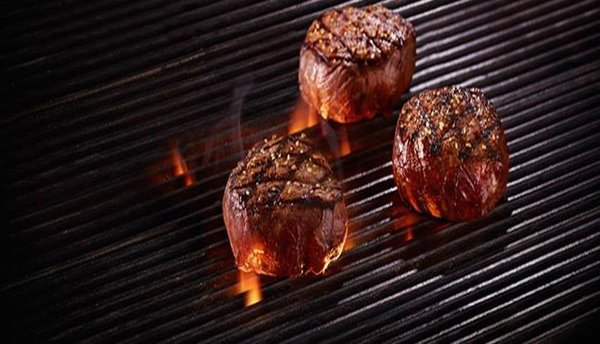sushi: (222, 127, 349, 299), (392, 85, 510, 223), (298, 1, 417, 125)
